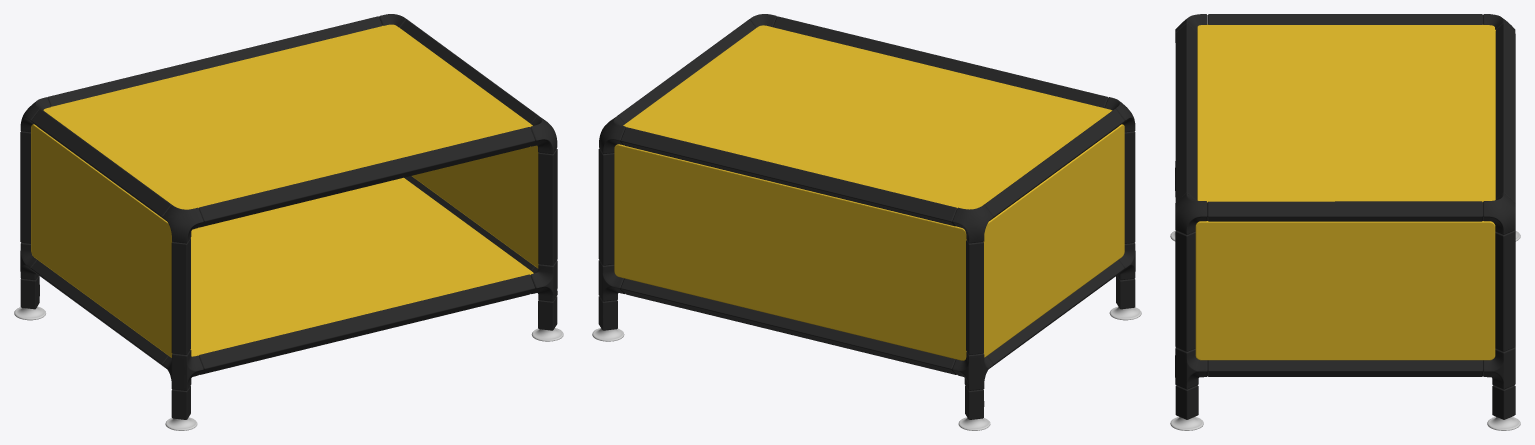
3 views of the same model, side by side, from view 1: azimuth 30°, elevation 25°; view 2: azimuth 150°, elevation 25°; view 3: azimuth 270°, elevation 25° (orthographic). The views are drawn at different scales.
Parts seen in each view (by area): view 1: 479x329x154; view 2: 479x329x154; view 3: 479x329x154.
Part boxes in pixels (<box>): 479x329x154: <box>14,14,563,430</box>; 479x329x154: <box>592,14,1141,430</box>; 479x329x154: <box>1170,14,1520,430</box>.
Bounding box in the file's own units: 0.5689 × 0.2933 × 0.4183.
